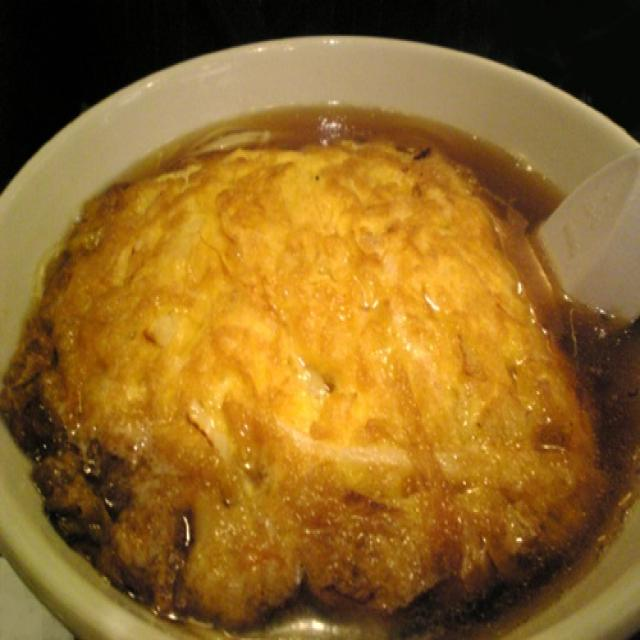面条主食: (4, 27, 636, 640)
